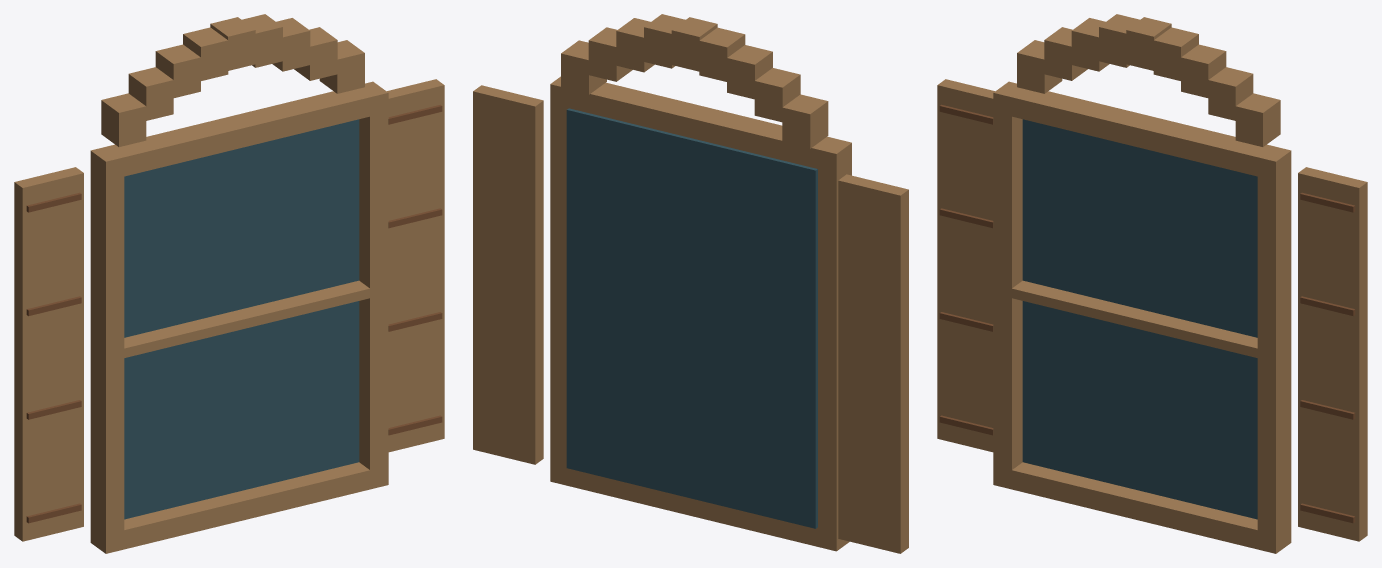
Rendered from window_10.glb.
3 renders of one model, left to right at view 1: azimuth 30°, elevation 25°; view 2: azimuth 150°, elevation 25°; view 3: azimuth 330°, elevation 25°, orthographic.
Parts seen in each view (by area): view 1: window_10; view 2: window_10; view 3: window_10.
Part boxes in pixels (x1=…): window_10: x1=14, y1=14, x2=444, y2=553; window_10: x1=473, y1=14, x2=908, y2=553; window_10: x1=937, y1=14, x2=1367, y2=553.
Size of the model in its own units: 2.06 by 2.25 by 0.195.
